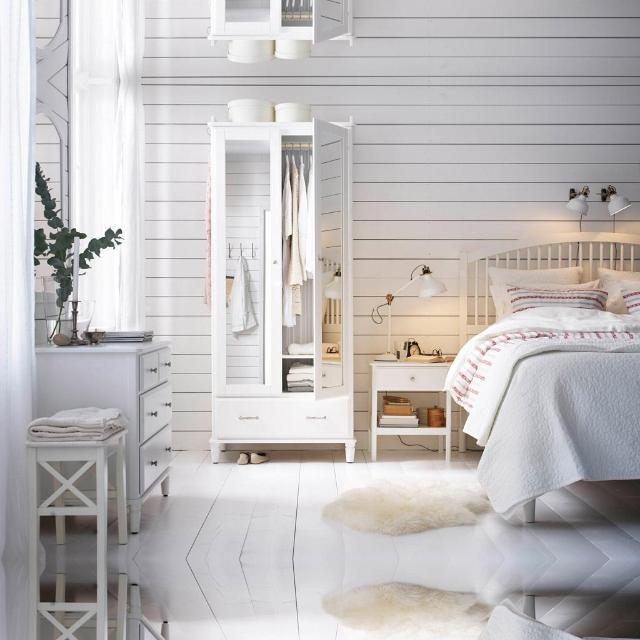bed: (445, 232, 640, 521)
curtain: (71, 80, 145, 330), (71, 0, 145, 80)
dresser: (210, 120, 356, 460), (37, 340, 174, 531)
lamp: (375, 264, 446, 360), (600, 184, 631, 215), (566, 185, 590, 215)
rug: (322, 482, 491, 534), (322, 582, 491, 634)
stool: (26, 429, 128, 558), (29, 559, 107, 640)
